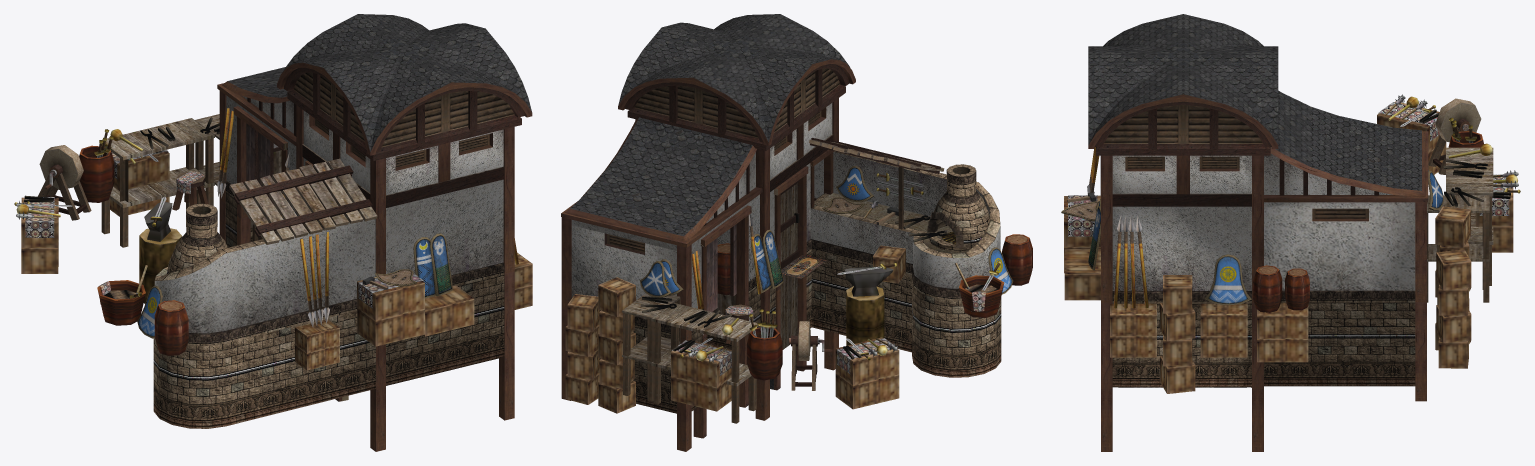
The model's file is maur_blacksmith.glb.
The picture shows the model from 3 angles, left to right: view 1: azimuth 30°, elevation 25°; view 2: azimuth 150°, elevation 25°; view 3: azimuth 270°, elevation 25°; orthographic projection. The views are drawn at different scales.
Parts seen in each view (by area): view 1: maur_blacksmith_part0, maur_blacksmith_part1, maur_blacksmith_part2, maur_blacksmith_part8, maur_blacksmith_part7, maur_blacksmith_part4, maur_blacksmith_part6; view 2: maur_blacksmith_part0, maur_blacksmith_part1, maur_blacksmith_part2, maur_blacksmith_part6, maur_blacksmith_part5, maur_blacksmith_part8, maur_blacksmith_part7, maur_blacksmith_part4; view 3: maur_blacksmith_part0, maur_blacksmith_part1, maur_blacksmith_part4, maur_blacksmith_part2, maur_blacksmith_part6, maur_blacksmith_part8.
Boxes of the visible parts, bbox=[...] form: maur_blacksmith_part0: bbox=[21, 14, 532, 451]; maur_blacksmith_part1: bbox=[39, 145, 504, 428]; maur_blacksmith_part2: bbox=[14, 129, 166, 298]; maur_blacksmith_part8: bbox=[289, 204, 452, 296]; maur_blacksmith_part7: bbox=[282, 200, 435, 298]; maur_blacksmith_part4: bbox=[137, 285, 162, 338]; maur_blacksmith_part6: bbox=[375, 269, 416, 286]; maur_blacksmith_part0: bbox=[561, 14, 1032, 451]; maur_blacksmith_part1: bbox=[633, 151, 1001, 413]; maur_blacksmith_part2: bbox=[680, 173, 1001, 362]; maur_blacksmith_part6: bbox=[660, 165, 873, 295]; maur_blacksmith_part5: bbox=[640, 261, 671, 297]; maur_blacksmith_part8: bbox=[763, 229, 783, 289]; maur_blacksmith_part7: bbox=[751, 234, 771, 293]; maur_blacksmith_part4: bbox=[988, 247, 1013, 294]; maur_blacksmith_part0: bbox=[1064, 14, 1513, 451]; maur_blacksmith_part1: bbox=[1100, 98, 1481, 387]; maur_blacksmith_part4: bbox=[1204, 254, 1251, 305]; maur_blacksmith_part2: bbox=[1384, 94, 1520, 193]; maur_blacksmith_part6: bbox=[1061, 170, 1430, 221]; maur_blacksmith_part8: bbox=[1088, 206, 1100, 270].
Size of the model in its own units: 3.99 by 3.49 by 4.
Materials: 8 (8 with a texture image).
